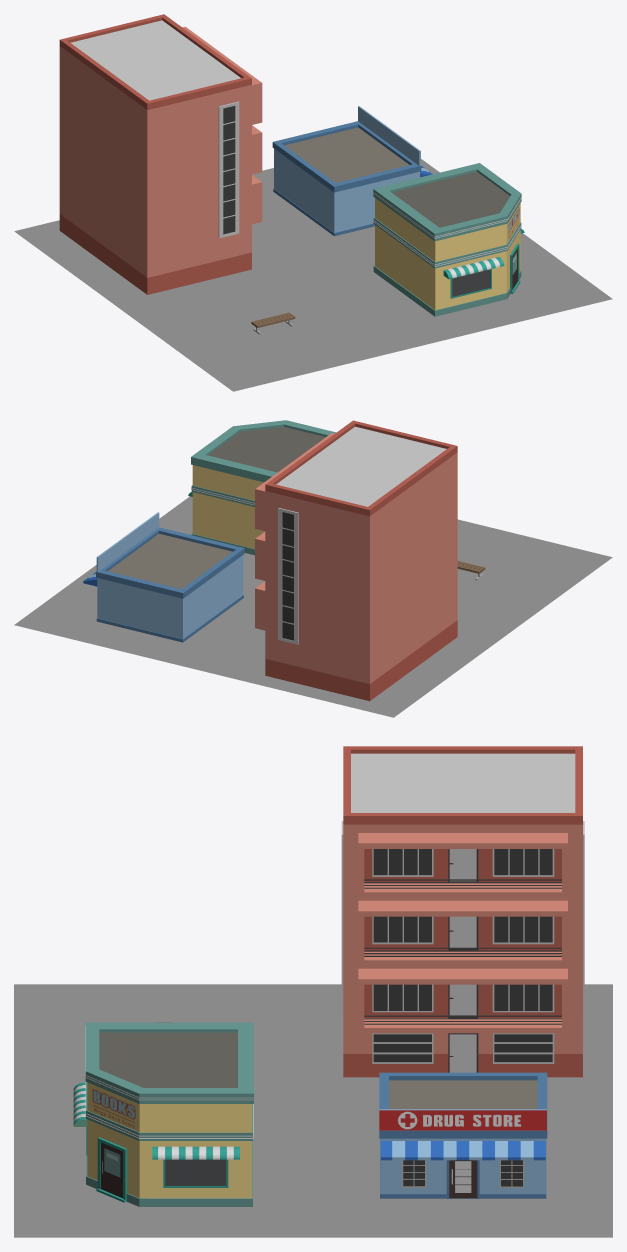
File: remix-mixed-main-street.glb
3 renders of one model, top to bottom at view 1: azimuth 30°, elevation 25°; view 2: azimuth 150°, elevation 25°; view 3: azimuth 270°, elevation 25°, orthographic. The views are drawn at different scales.
Parts seen in each view (by area): view 1: Building_Residential_color01_Cube.013, Road Concrete Tile_Plane.010, Building_Books Shop_Cube.018, Building_Drug Store_Cube.008; view 2: Building_Residential_color01_Cube.013, Road Concrete Tile_Plane.010, Building_Drug Store_Cube.008, Building_Books Shop_Cube.018; view 3: Building_Residential_color01_Cube.013, Road Concrete Tile_Plane.010, Building_Books Shop_Cube.018, Building_Drug Store_Cube.008.
Part boxes in pixels (<box>): Building_Residential_color01_Cube.013: <box>59,14,262,294</box>; Road Concrete Tile_Plane.010: <box>14,159,612,391</box>; Building_Books Shop_Cube.018: <box>373,163,524,316</box>; Building_Drug Store_Cube.008: <box>272,106,432,236</box>; Building_Residential_color01_Cube.013: <box>255,420,457,701</box>; Road Concrete Tile_Plane.010: <box>14,496,612,717</box>; Building_Drug Store_Cube.008: <box>83,512,244,642</box>; Building_Books Shop_Cube.018: <box>188,420,336,555</box>; Building_Residential_color01_Cube.013: <box>341,746,584,1077</box>; Road Concrete Tile_Plane.010: <box>14,984,612,1237</box>; Building_Books Shop_Cube.018: <box>73,1022,253,1206</box>; Building_Drug Store_Cube.008: <box>379,1072,547,1198</box>.
Size of the model in its own units: 40 by 19.24 by 40.
Materials: 5 (5 with a texture image).
